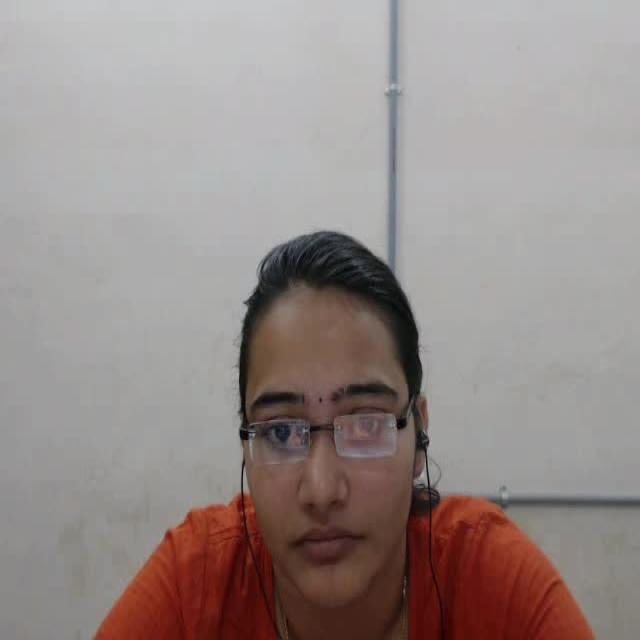Engaged: (214, 227, 446, 619)
